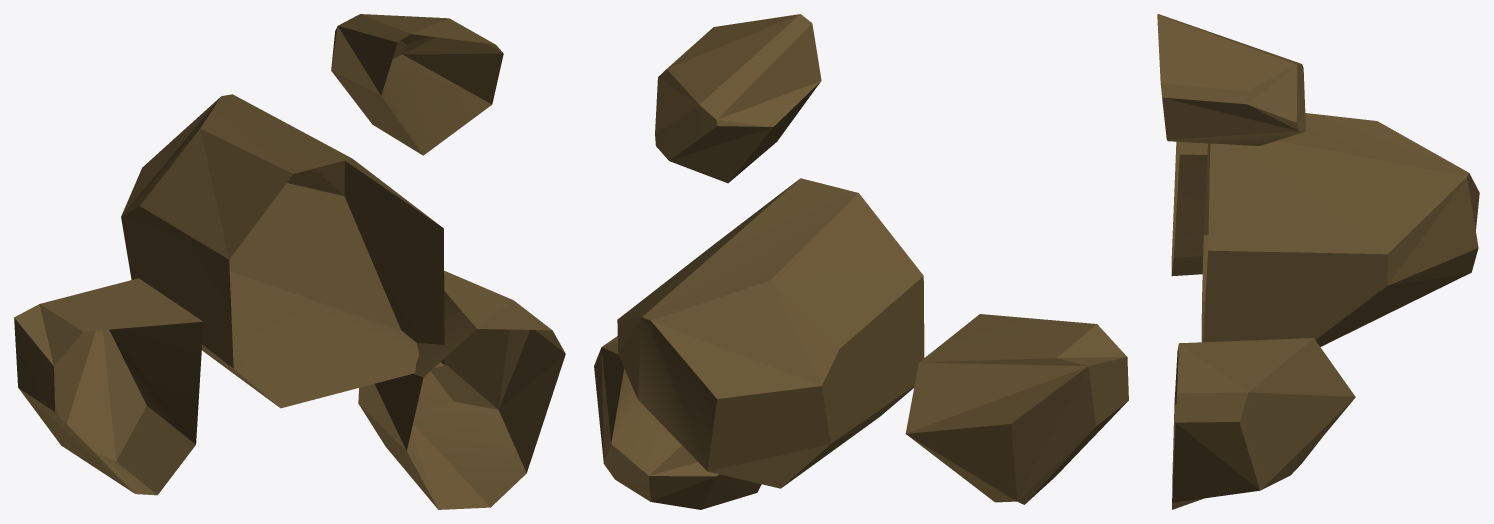
Rendered from Crystal 03.FBX.
3 renders of one model, left to right at view 1: azimuth 30°, elevation 25°; view 2: azimuth 150°, elevation 25°; view 3: azimuth 270°, elevation 25°, orthographic. The views are drawn at different scales.
Visible parts, largest first — view 1: Crystal 03; view 2: Crystal 03; view 3: Crystal 03.
Boxes of the visible parts, <box> form: Crystal 03: <box>14,14,565,509</box>; Crystal 03: <box>594,14,1128,509</box>; Crystal 03: <box>1157,14,1479,509</box>.
Size of the model in its own units: 59.71 by 55.76 by 35.7.
